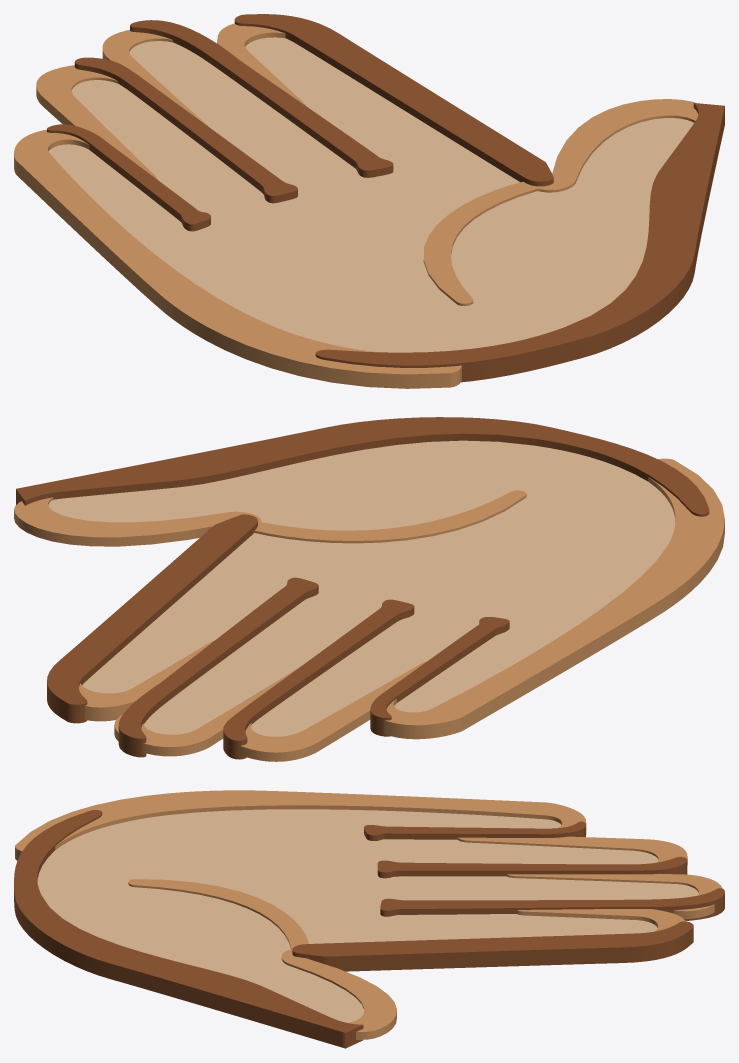
The model's file is emoji_u270b_1f3fc.glb.
3 views of the same model, one above another, from view 1: azimuth 30°, elevation 25°; view 2: azimuth 150°, elevation 25°; view 3: azimuth 270°, elevation 25° (orthographic). The views are drawn at different scales.
Visible parts, largest first — view 1: emoji_u270b_1f3fc; view 2: emoji_u270b_1f3fc; view 3: emoji_u270b_1f3fc.
Part boxes in pixels (x1,y1,x2,y2): emoji_u270b_1f3fc: (14, 14, 724, 388); emoji_u270b_1f3fc: (14, 417, 724, 761); emoji_u270b_1f3fc: (14, 790, 724, 1048).
Bounding box in the file's own units: 0.0269 × 0.0008 × 0.033.
